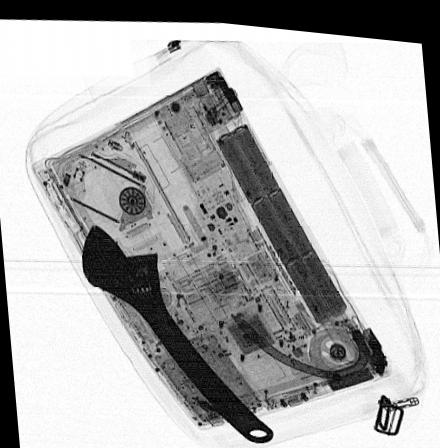Wrench: (78, 221, 273, 439)
